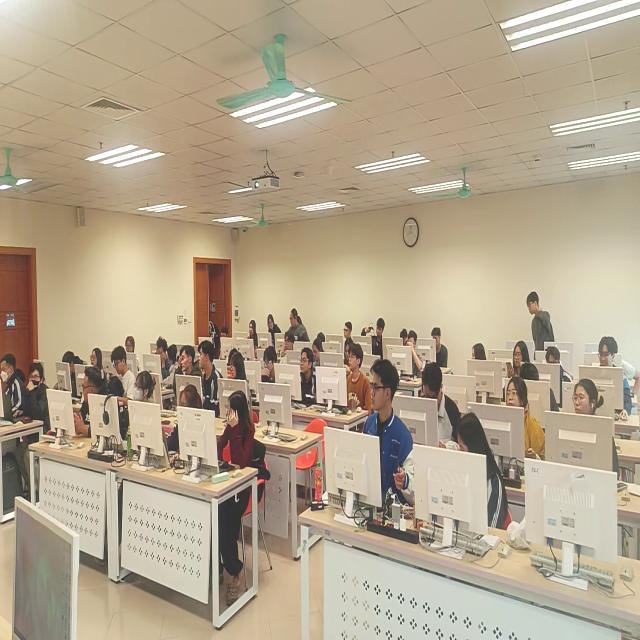raise_head: (362, 353, 417, 508), (573, 376, 623, 493), (504, 373, 549, 463), (125, 369, 156, 458), (345, 341, 372, 412), (25, 360, 49, 423), (298, 346, 318, 407), (267, 312, 282, 342), (91, 344, 104, 372), (247, 319, 259, 347), (126, 332, 137, 356), (344, 321, 353, 339)
stand: (524, 285, 558, 352), (289, 307, 312, 345)
using_computer: (456, 409, 510, 545), (422, 359, 459, 453), (595, 337, 634, 423), (161, 382, 204, 459), (1, 351, 24, 417), (546, 347, 575, 390), (112, 347, 135, 400), (63, 353, 87, 397), (366, 315, 387, 356), (431, 326, 451, 368), (262, 340, 279, 386), (229, 349, 249, 383), (314, 336, 325, 366), (223, 325, 229, 342)
using_phone: (505, 338, 533, 382)
